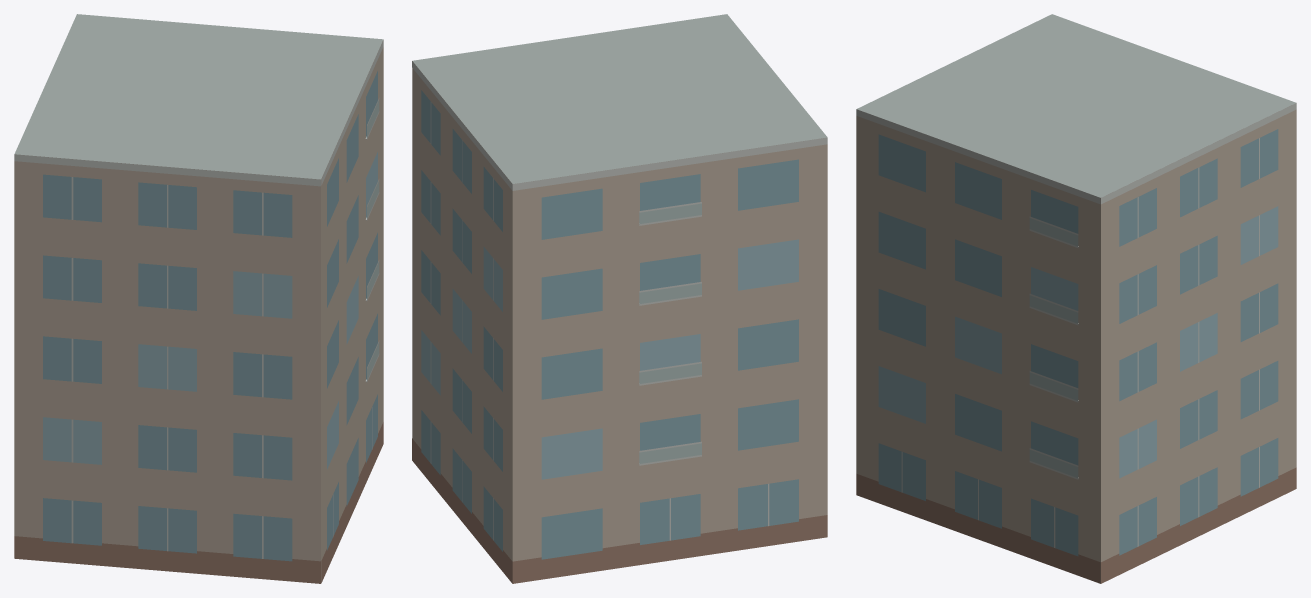
The model's file is survey-upis-32778364.glb.
3 renders of one model, left to right at view 1: azimuth 30°, elevation 25°; view 2: azimuth 150°, elevation 25°; view 3: azimuth 270°, elevation 25°, orthographic. The views are drawn at different scales.
Parts seen in each view (by area): view 1: survey-upis-32778364.tmp; view 2: survey-upis-32778364.tmp; view 3: survey-upis-32778364.tmp.
Part boxes in pixels (box(x1,y1,x2,y2)): survey-upis-32778364.tmp: box(14, 14, 383, 583); survey-upis-32778364.tmp: box(412, 14, 827, 583); survey-upis-32778364.tmp: box(856, 14, 1296, 583).
Bounding box in the file's own units: 14.62 × 14.3 × 14.79.
